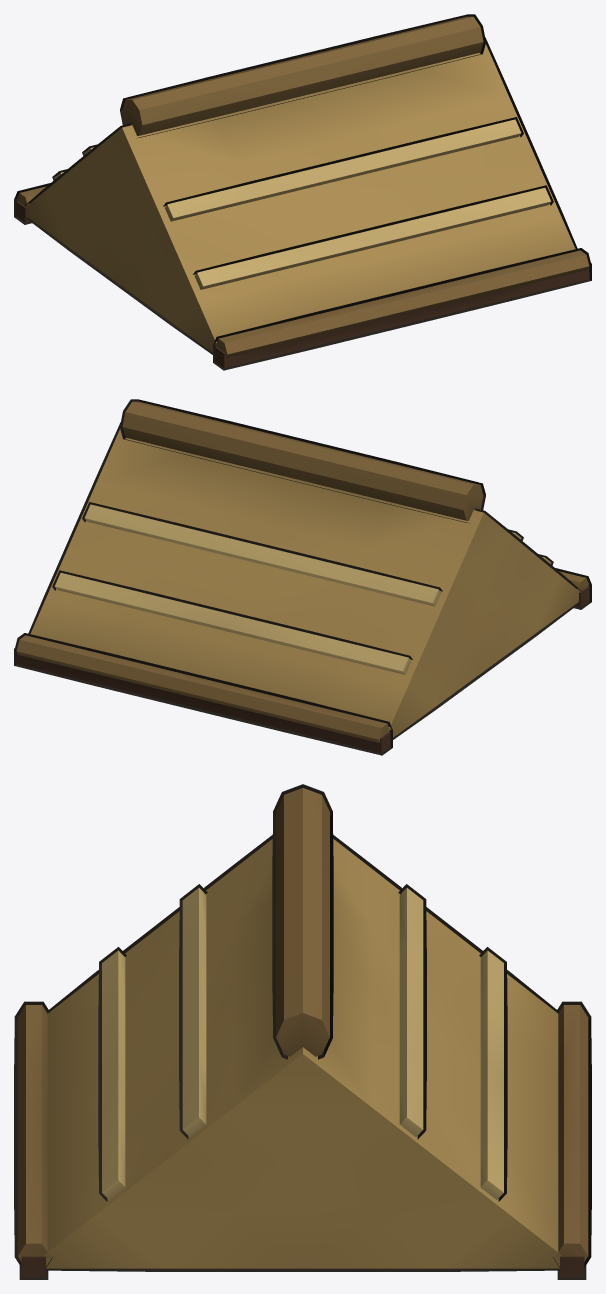
File: toit_chaume.glb
3 views of the same model, one above another, from view 1: azimuth 30°, elevation 25°; view 2: azimuth 150°, elevation 25°; view 3: azimuth 270°, elevation 25° (orthographic). The views are drawn at different scales.
Visible parts, largest first — view 1: toit_chaume, toit_chaume_outline; view 2: toit_chaume, toit_chaume_outline; view 3: toit_chaume, toit_chaume_outline.
Boxes of the visible parts, box(x1,y1,x2,y2) form: toit_chaume: box(16, 16, 589, 368); toit_chaume_outline: box(14, 14, 591, 370); toit_chaume: box(16, 401, 589, 753); toit_chaume_outline: box(14, 399, 591, 755); toit_chaume: box(17, 788, 588, 1276); toit_chaume_outline: box(14, 784, 591, 1279).
Bounding box in the file's own units: 2.14 × 1.07 × 2.15.
